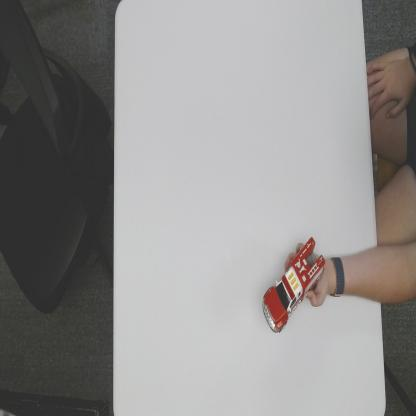Firetruck: (261, 235, 326, 336)
